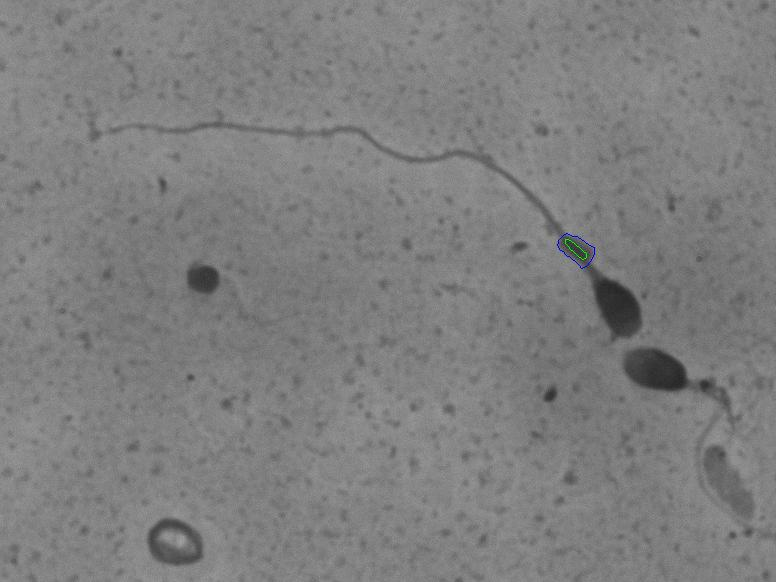Abnormal: (597, 339, 744, 483)
Normal: (81, 81, 657, 347)
